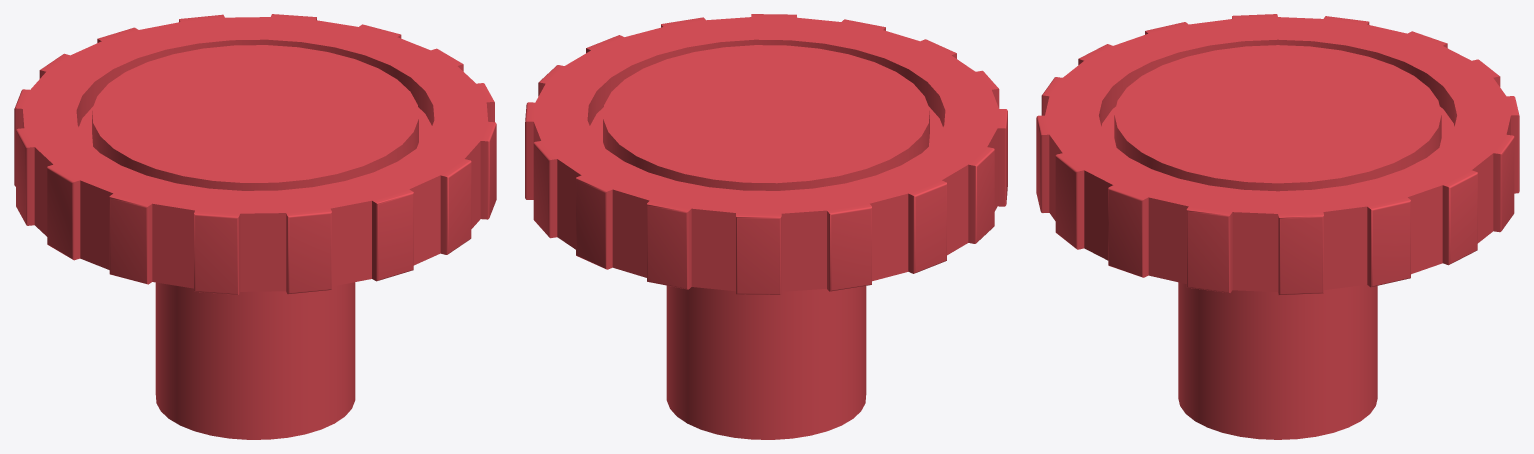
Rendered from Button Above.fbx.
3 renders of one model, left to right at view 1: azimuth 30°, elevation 25°; view 2: azimuth 150°, elevation 25°; view 3: azimuth 270°, elevation 25°, orthographic.
Parts seen in each view (by area): view 1: Cylinder.003; view 2: Cylinder.003; view 3: Cylinder.003.
Part boxes in pixels (<box>): Cylinder.003: <box>14,14,496,439</box>; Cylinder.003: <box>525,14,1007,439</box>; Cylinder.003: <box>1036,14,1519,439</box>.
Size of the model in its own units: 8.42 by 5.45 by 8.42.
